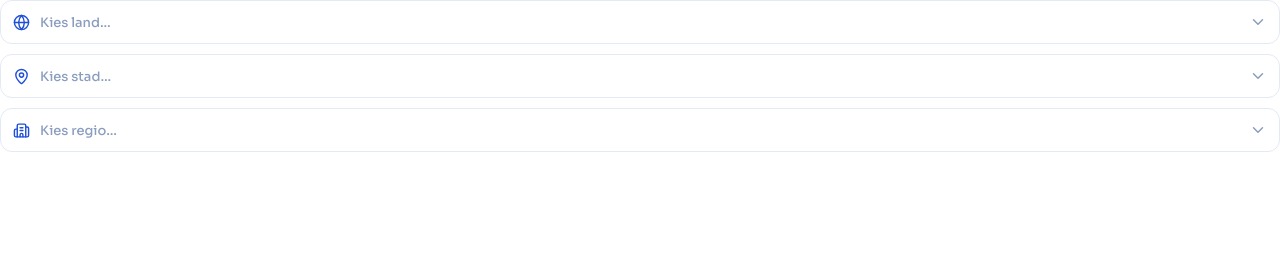
Test: ScopePicker — choosing where to search › closes the list once something is picked
Click the dropdown with test id "scope-country".
click(640, 22)  # box [40,14,1239,30]
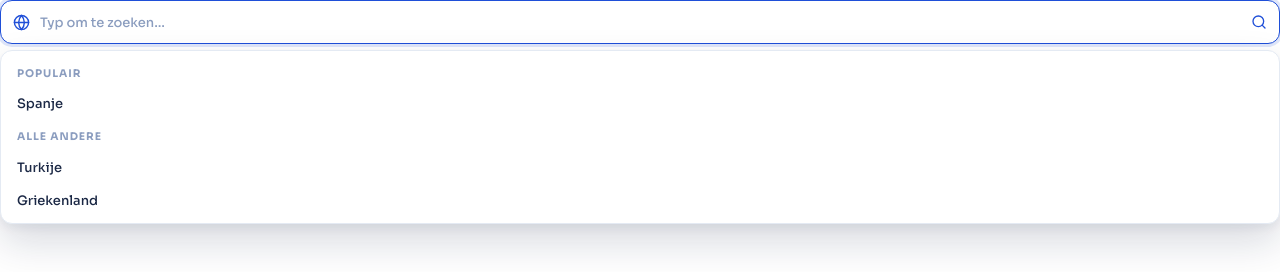
Click the option "Turkije".
click(39, 167)  # box [7,151,1273,184]
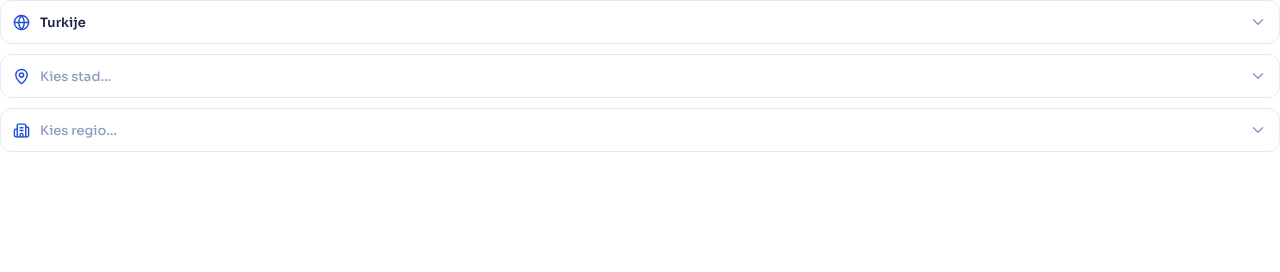
Expected: the list is gone
